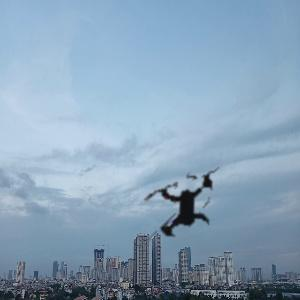drone: (113, 132, 257, 276)
